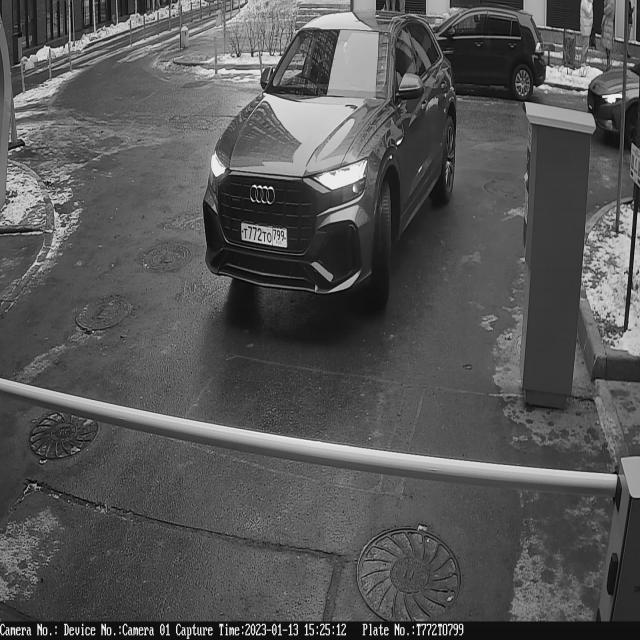car-plate-numbers: (239, 219, 290, 252)
